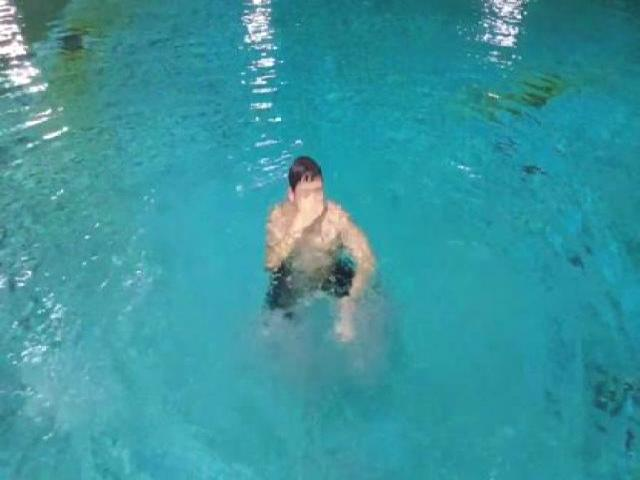swimming: (248, 146, 380, 344)
